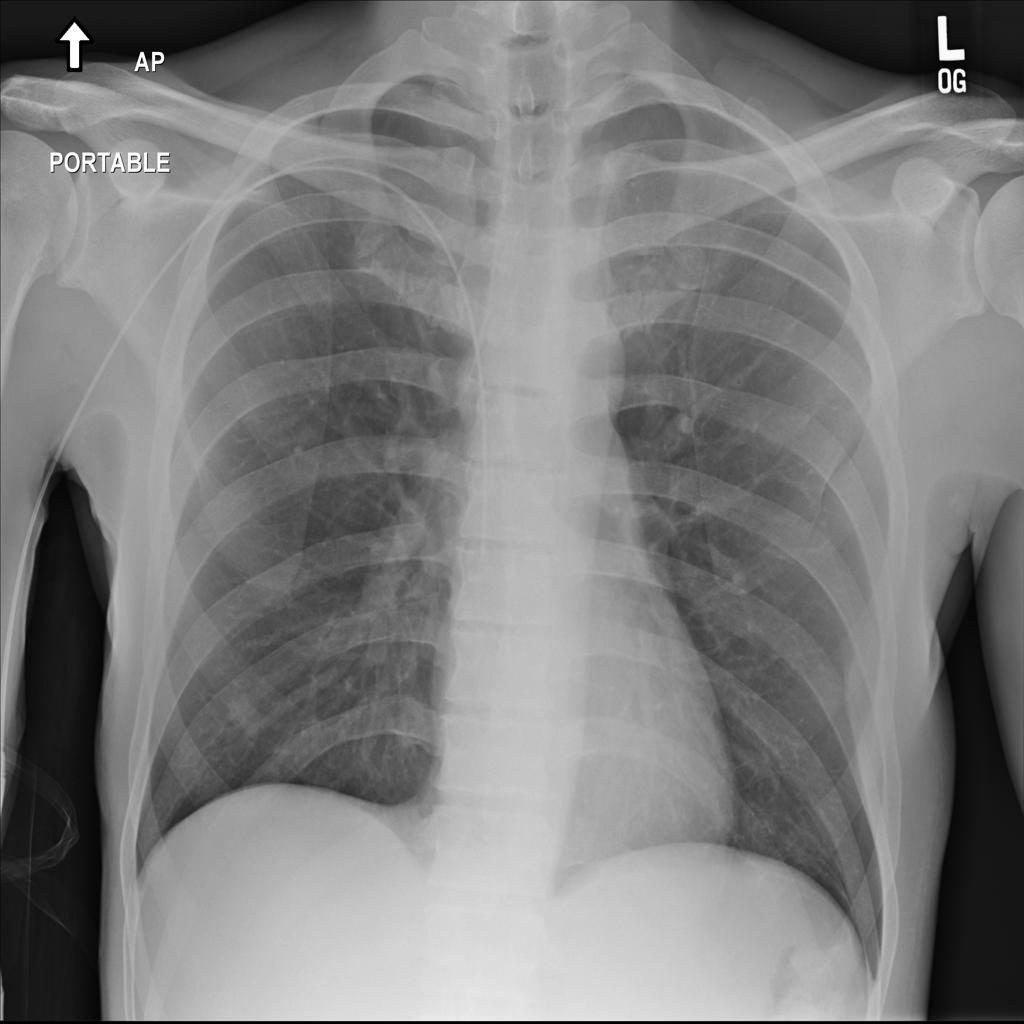nodule: (209, 676, 276, 746)
